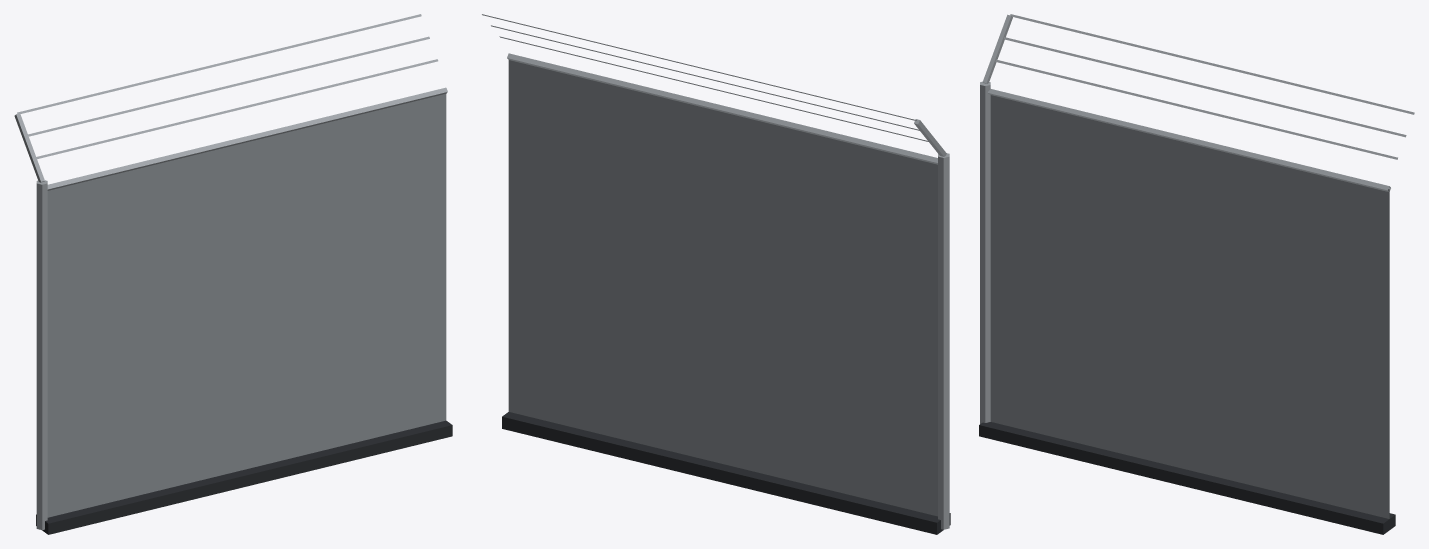
The model's file is perimeter_fence.glb.
3 renders of one model, left to right at view 1: azimuth 30°, elevation 25°; view 2: azimuth 150°, elevation 25°; view 3: azimuth 330°, elevation 25°, orthographic. The views are drawn at different scales.
Visible parts, largest first — view 1: LOD0; view 2: LOD0; view 3: LOD0.
Boxes of the visible parts, <box> form: LOD0: <box>14,14,452,534</box>; LOD0: <box>482,14,950,534</box>; LOD0: <box>979,14,1414,534</box>.
Bounding box in the file's own units: 3.04 × 2.83 × 0.4112.
3 materials, 1 textured.
